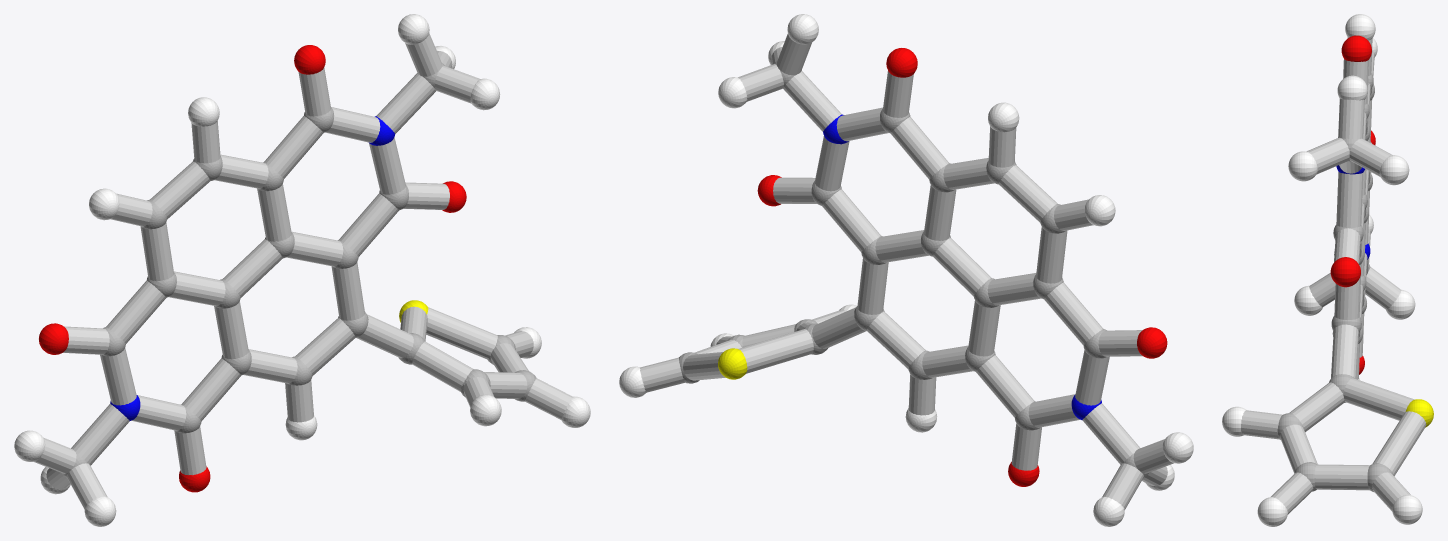
File: Dimethyl_Naphthalene_Dicarboximide_Phi_10_Theta_100_Thiophene.glb
3 renders of one model, left to right at view 1: azimuth 30°, elevation 25°; view 2: azimuth 150°, elevation 25°; view 3: azimuth 270°, elevation 25°, orthographic. The views are drawn at different scales.
Parts seen in each view (by area): view 1: grp14119, grp7241, grp1, grp12309, grp11585; view 2: grp14119, grp7241, grp1, grp12309, grp13757, grp11585; view 3: grp14119, grp7241, grp1, grp12309, grp13757.
Part boxes in pixels (<box>): grp14119: <box>34,33,572,509</box>; grp7241: <box>14,14,590,526</box>; grp1: <box>62,63,536,477</box>; grp12309: <box>39,45,466,492</box>; grp11585: <box>110,116,395,420</box>; grp14119: <box>640,34,1173,509</box>; grp7241: <box>619,14,1193,526</box>; grp1: <box>679,61,1148,476</box>; grp12309: <box>757,48,1167,486</box>; grp13757: <box>718,348,747,379</box>; grp11585: <box>823,114,1101,419</box>; grp14119: <box>1241,37,1426,514</box>; grp7241: <box>1222,14,1422,526</box>; grp1: <box>1277,73,1393,491</box>; grp12309: <box>1330,35,1375,374</box>; grp13757: <box>1405,399,1433,427</box>.
Size of the model in its own units: 11.98 by 8.78 by 4.18.
